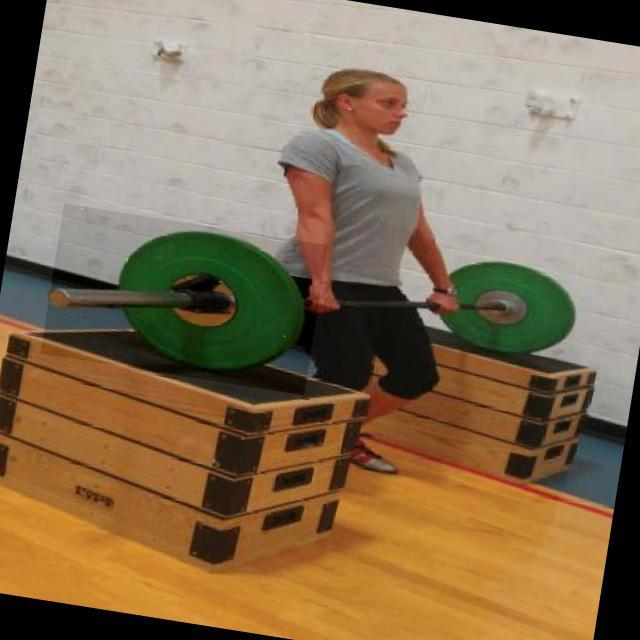barbell: (41, 205, 329, 397)
